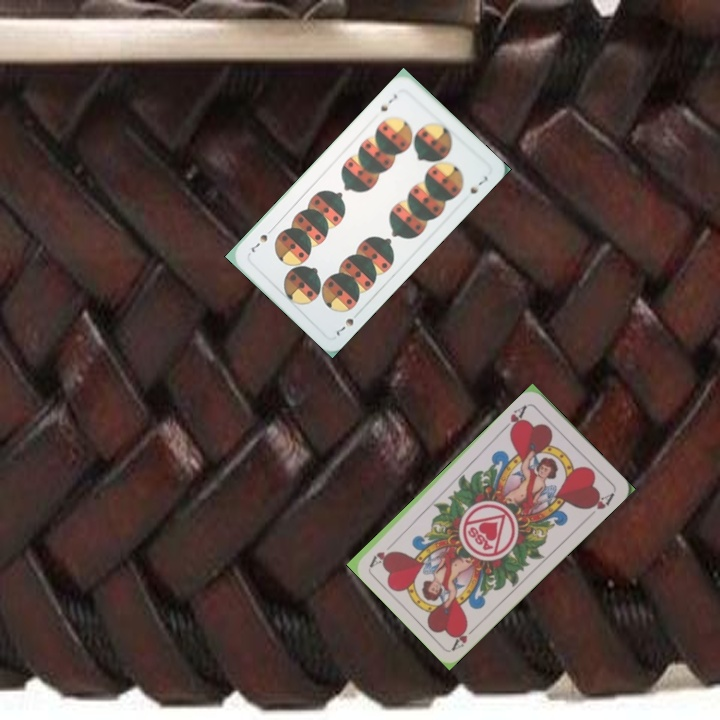HA: (499, 400, 531, 437), (448, 620, 482, 652)
S7: (332, 314, 356, 339), (376, 90, 400, 114)
